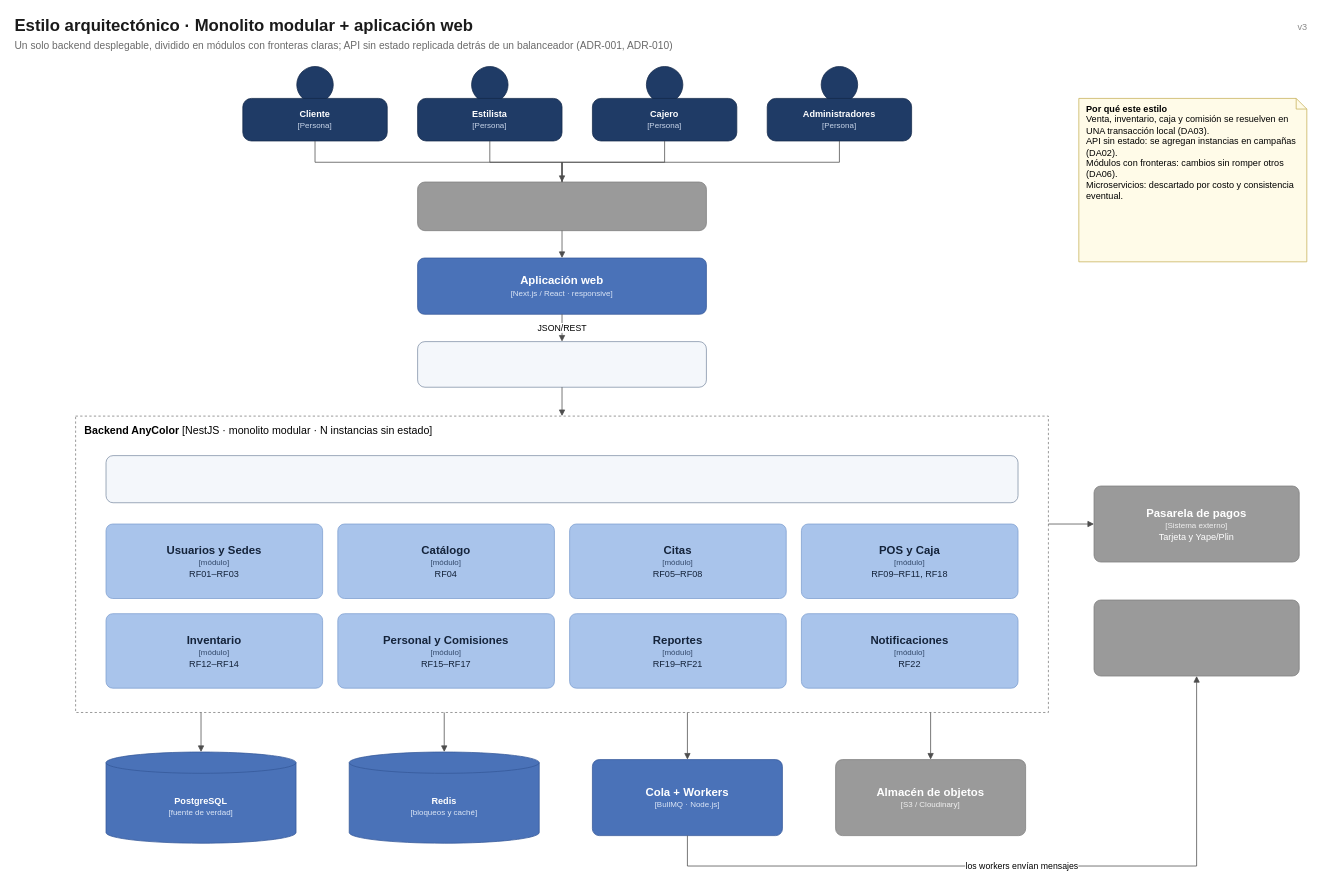
The diagram is 1321 pixels wide and 885 high, and some of its shapes have lost their labels. The centre of each missing label's shape, as x and y in pixels:
Balanceador de carga [NGINX / Cloud LB]: pixel 561 364
CDN + WAF [Cloudflare]: pixel 561 206
Mensajería [Sistema externo] WhatsApp / correo: pixel 1196 637
Transversales JWT · RBAC por sede · validación · idempotencia · auditoría · logs: pixel 561 479
